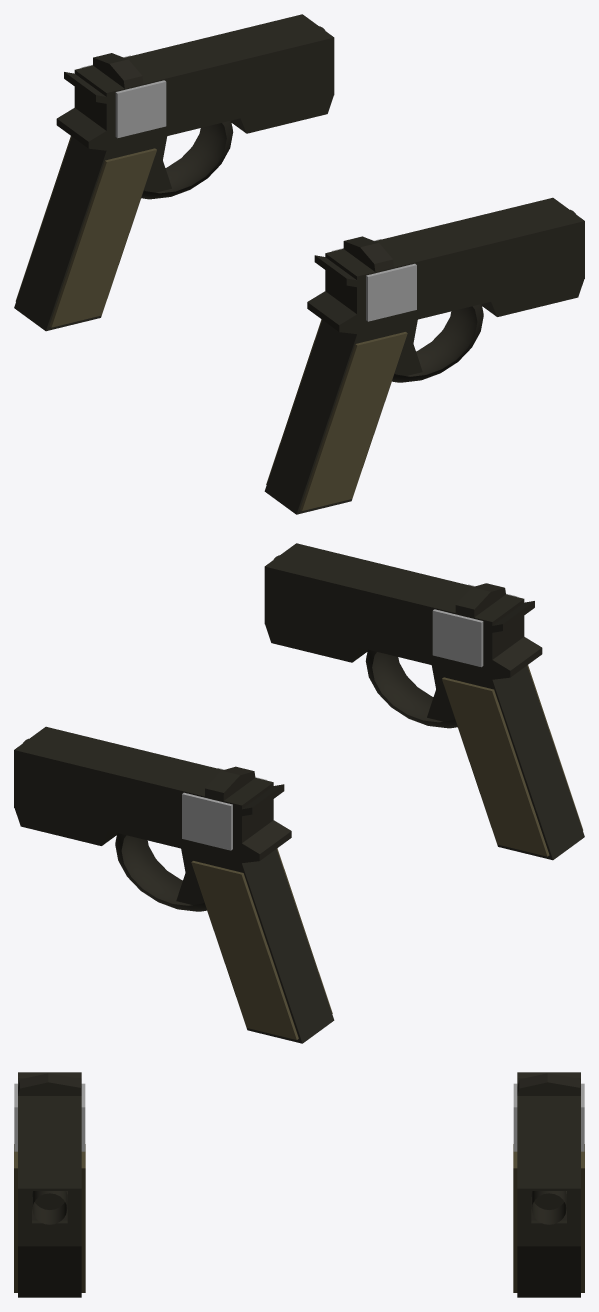
File: Duel Pistol.fbx
3 views of the same model, one above another, from view 1: azimuth 30°, elevation 25°; view 2: azimuth 150°, elevation 25°; view 3: azimuth 270°, elevation 25° (orthographic).
Visible parts, largest first — view 1: Pistol_grip, Pistol:Pistol_grip, Pistol:Handle, Handle, Pistol:Trigger_protector, Trigger_protector, deceration, Pistol:deceration, Pistol:Trigger, Trigger; view 2: Pistol:Pistol_grip, Pistol_grip, Handle, Pistol:Handle, Trigger_protector, Pistol:Trigger_protector, Pistol:deceration, deceration, Trigger, Pistol:Trigger; view 3: Pistol:Pistol_grip, Pistol_grip, Pistol:Handle, Handle, Pistol:Barrel, Barrel, Pistol:deceration, deceration.
Part boxes in pixels (bbox=[...]): Pistol_grip: bbox=[14, 14, 334, 331]; Pistol:Pistol_grip: bbox=[264, 197, 584, 514]; Pistol:Handle: bbox=[266, 319, 407, 510]; Handle: bbox=[15, 136, 156, 327]; Pistol:Trigger_protector: bbox=[392, 304, 483, 382]; Trigger_protector: bbox=[141, 120, 233, 199]; deceration: bbox=[81, 55, 166, 138]; Pistol:deceration: bbox=[332, 239, 416, 321]; Pistol:Trigger: bbox=[394, 319, 422, 375]; Trigger: bbox=[144, 136, 171, 192]; Pistol:Pistol_grip: bbox=[264, 543, 584, 860]; Pistol_grip: bbox=[14, 726, 334, 1043]; Handle: bbox=[191, 848, 332, 1039]; Pistol:Handle: bbox=[442, 665, 583, 856]; Trigger_protector: bbox=[115, 833, 206, 911]; Pistol:Trigger_protector: bbox=[365, 649, 457, 728]; Pistol:deceration: bbox=[432, 584, 517, 667]; deceration: bbox=[182, 768, 266, 850]; Trigger: bbox=[176, 848, 204, 904]; Pistol:Trigger: bbox=[427, 665, 454, 721]; Pistol:Pistol_grip: bbox=[18, 1072, 81, 1297]; Pistol_grip: bbox=[517, 1072, 580, 1297]; Pistol:Handle: bbox=[14, 1144, 85, 1292]; Handle: bbox=[513, 1144, 584, 1292]; Pistol:Barrel: bbox=[32, 1191, 67, 1224]; Barrel: bbox=[531, 1191, 566, 1224]; Pistol:deceration: bbox=[14, 1083, 85, 1151]; deceration: bbox=[513, 1083, 584, 1151].
Size of the model in its own units: 8.59 by 6.65 by 14.56.
